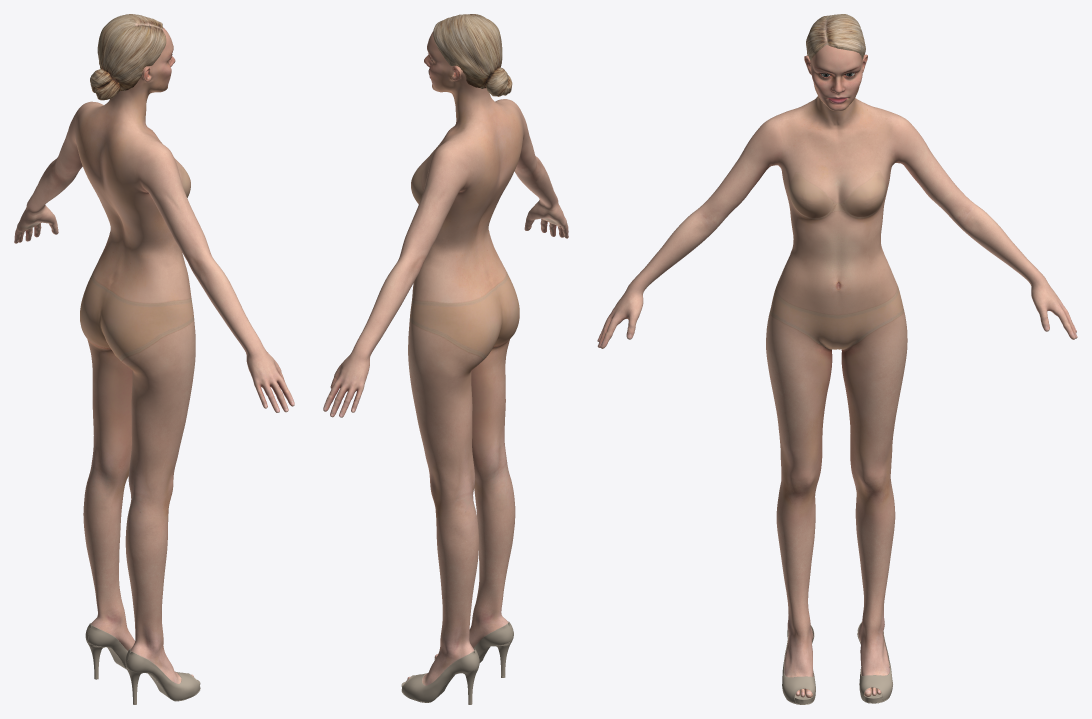
3 renders of one model, left to right at view 1: azimuth 30°, elevation 25°; view 2: azimuth 150°, elevation 25°; view 3: azimuth 270°, elevation 25°, orthographic.
Visible parts, largest first — view 1: avatar-women; view 2: avatar-women; view 3: avatar-women.
Part boxes in pixels (<box>): avatar-women: <box>14,14,294,704</box>; avatar-women: <box>323,14,568,704</box>; avatar-women: <box>597,14,1077,704</box>.
Size of the model in its own units: 1.97 by 14.2 by 9.28.
